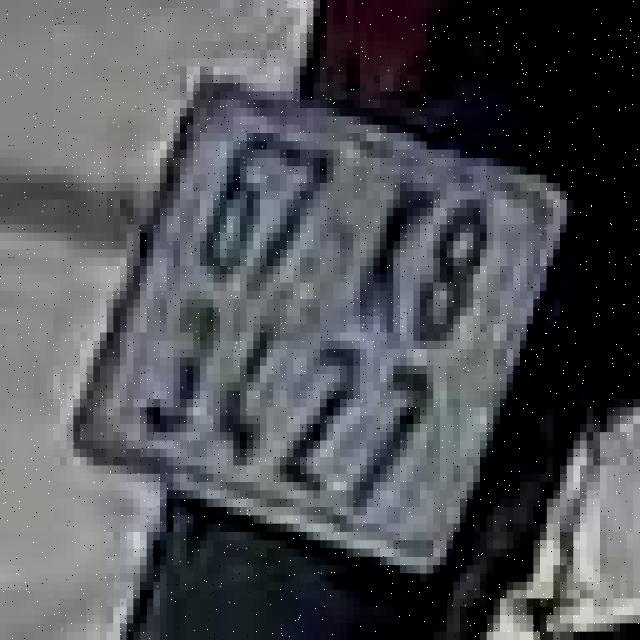2: (255, 326, 381, 519)
3: (121, 271, 242, 469)
4: (198, 288, 306, 495)
6: (181, 104, 296, 300)
7: (327, 345, 457, 538), (230, 120, 351, 311)
8: (394, 171, 512, 373)
K: (337, 159, 450, 352)
